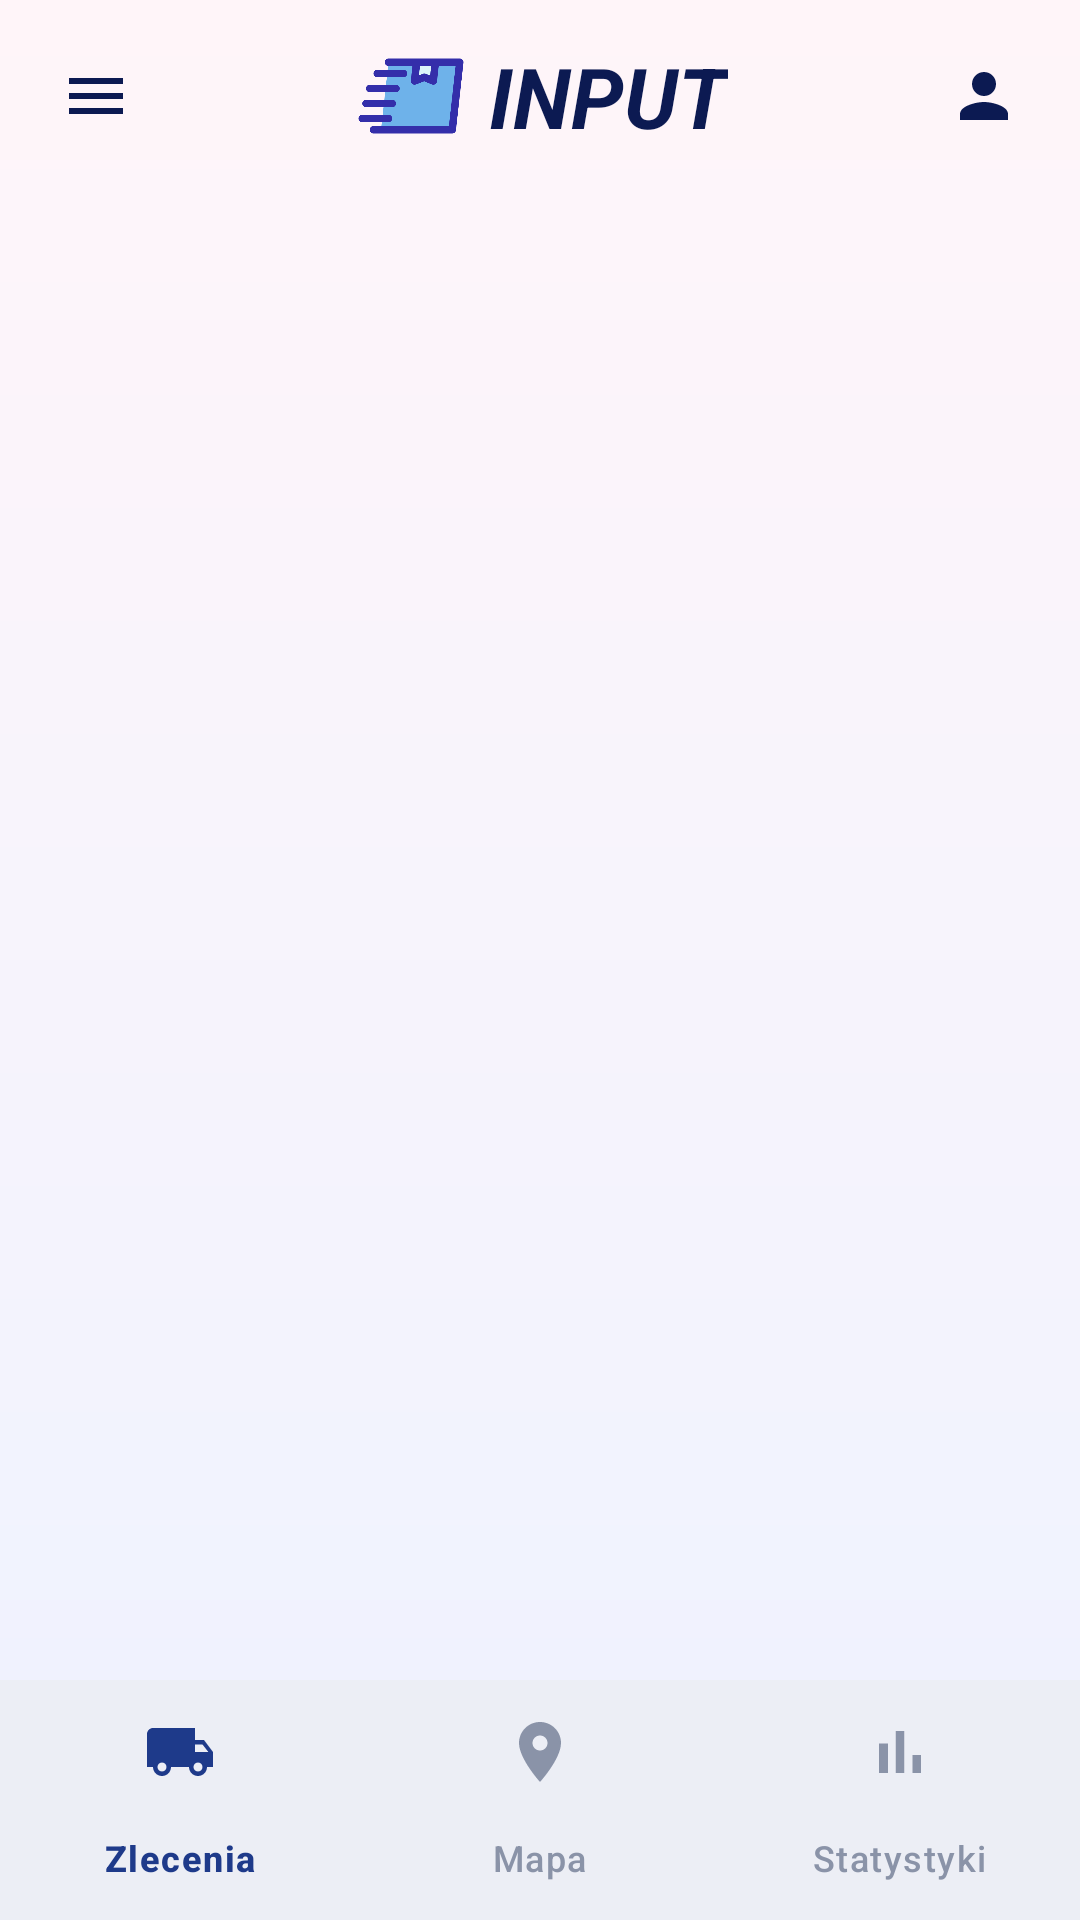

Where icons sit on this 1080px x 1920px app screen, as (x1, y1, x2, y2):
Menu: (69, 78, 123, 114)
Profil: (960, 72, 1008, 120)
